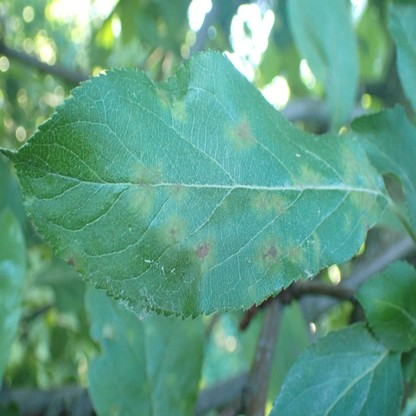scab: (341, 152, 378, 210), (129, 167, 159, 213), (254, 236, 281, 275), (190, 236, 216, 275), (251, 190, 288, 217), (225, 117, 256, 149), (157, 217, 186, 247), (293, 164, 323, 190), (63, 245, 86, 272), (285, 241, 303, 264), (155, 87, 170, 112), (167, 183, 185, 201), (171, 101, 186, 122), (312, 231, 320, 267), (342, 211, 352, 234), (361, 214, 370, 234)
